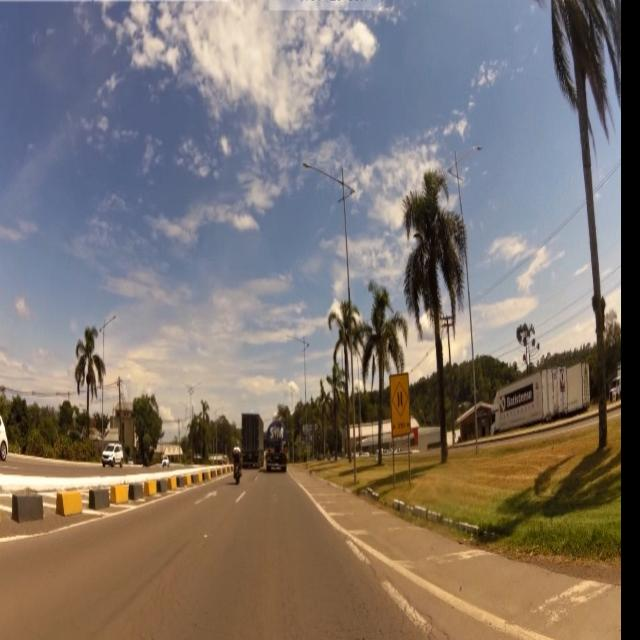A-22: (392, 380, 408, 418)
